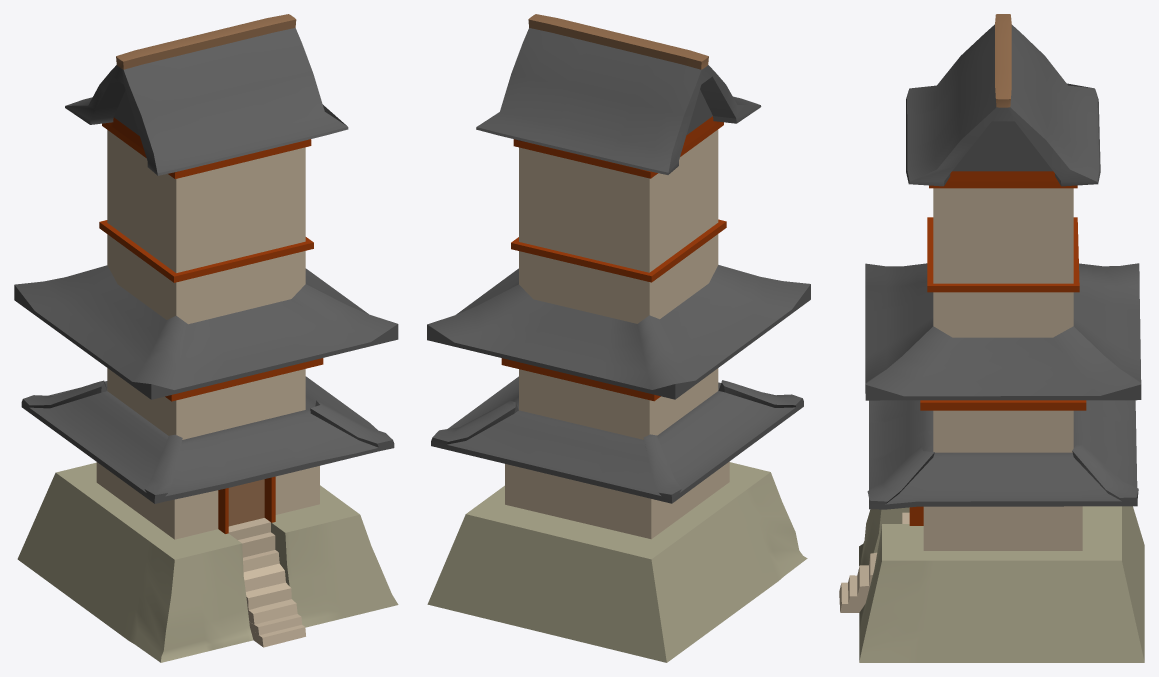
File: mainbulding1_textured.fbx
3 renders of one model, left to right at view 1: azimuth 30°, elevation 25°; view 2: azimuth 150°, elevation 25°; view 3: azimuth 270°, elevation 25°, orthographic.
Visible parts, largest first — view 1: base; view 2: base; view 3: base.
Part boxes in pixels (x1=…): base: x1=14, y1=14, x2=398, y2=662; base: x1=427, y1=14, x2=810, y2=662; base: x1=839, y1=14, x2=1144, y2=662.
Size of the model in its own units: 513 by 1080 by 545.
